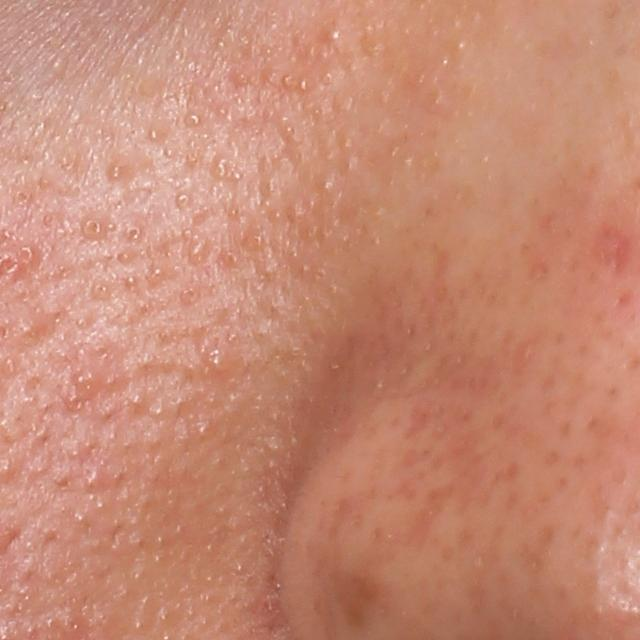comedo: (12, 314, 53, 349), (81, 465, 110, 492), (240, 229, 267, 252), (79, 216, 103, 241), (187, 237, 210, 263), (47, 58, 69, 80), (286, 200, 307, 223), (92, 280, 115, 301), (318, 174, 340, 195), (214, 156, 232, 181), (126, 389, 146, 411), (123, 224, 143, 243), (13, 188, 32, 208), (108, 162, 127, 181), (176, 190, 192, 209), (325, 28, 342, 45), (125, 272, 140, 288), (186, 112, 200, 128), (298, 77, 310, 92)
papule: (69, 364, 103, 401), (13, 241, 44, 274)
